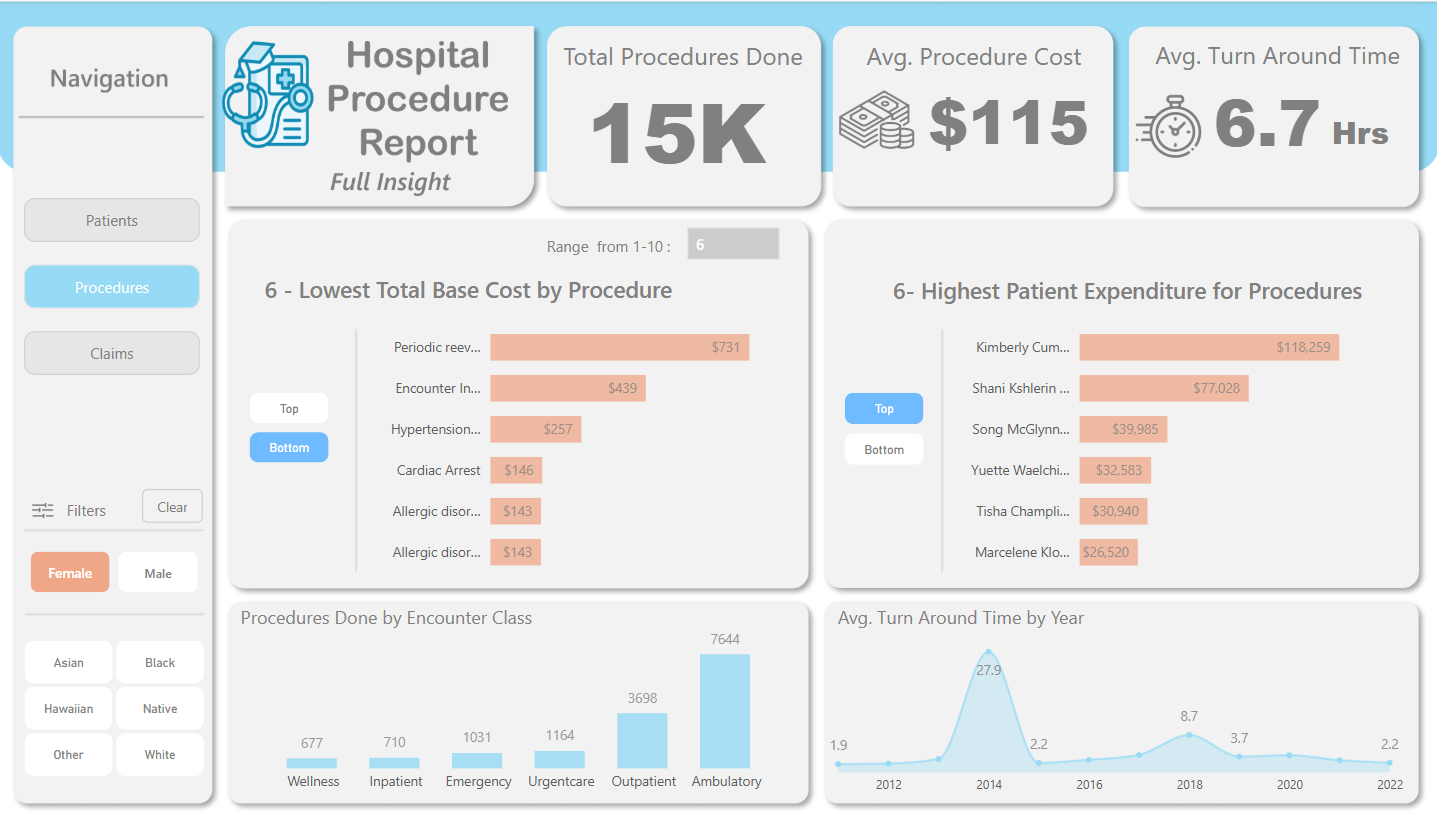

The page's visual inventory and layout, read from the dashboard file:
{"tool":"powerbi","page":{"name":"Procedures","canvas":[1280,720],"ordinal":1},"visuals":[{"type":"card","fields":{"Values":["Measures (2).Procedure Count"]},"box":[505.5,36.4,194.5,149.1],"z":0},{"type":"card","fields":{"Values":["Measures (2).Avg Cost"]},"box":[791,35,212,139],"z":1000},{"type":"columnChart","title":"Procedures by Encounter Class","fields":{"Category":["Encounters.ENCOUNTERCLASS"],"Y":["Measures (2).Procedure Count"]},"box":[223,544,482,166],"z":2000},{"type":"lineChart","fields":{"Category":["Calendar.Year"],"Y":["Measures (2).Avg Turn Around Time"]},"box":[729.1,555.5,523.6,158.2],"z":3000},{"type":"slicer","fields":{"Values":["Top/Bottom.Top/Bottom"]},"box":[603,191,102,73],"z":4000},{"type":"barChart","fields":{"Y":["Measures (2).Bottom Procedure"],"Category":["Encounters.DESCRIPTION"]},"box":[331.6,267.8,373.3,253.6],"z":5000},{"type":"barChart","fields":{"Y":["Measures (2).Top Patient"],"Category":["Patient.FULL NAME"]},"box":[845.5,268.2,407.3,253.6],"z":6000},{"type":"shape","box":[24,463,159,13],"z":7000},{"type":"textbox","box":[482,204,129,27],"z":8000},{"type":"advancedSlicerVisual","fields":{"Values":["Patient.GENDER"]},"box":[24.4,483.3,158.9,46.7],"z":9000},{"type":"advancedSlicerVisual","fields":{"Values":["Patient.RACE"]},"box":[19.1,562.4,170.3,132],"z":10000},{"type":"shape","box":[24.4,537.8,158.9,13.3],"z":11000},{"type":"image","box":[24,436,32,31],"z":12000},{"type":"textbox","box":[56.7,437.8,63.3,28.9],"z":13000},{"type":"textbox","box":[490,28.2,241.8,51.8],"z":14000},{"type":"textbox","box":[739.1,28.2,253.6,51.8],"z":15000},{"type":"textbox","box":[740,530,333.3,50],"z":16000},{"type":"textbox","box":[206.7,530,333.3,50],"z":17000},{"type":"advancedSlicerVisual","fields":{"Values":["Procedures Top/ Bottom.Procedures Top/ Bottom"]},"box":[219,342,80,73],"z":18000},{"type":"shape","box":[310.9,290.9,14.5,215.5],"z":19000},{"type":"advancedSlicerVisual","fields":{"Values":["Patient 2.Patient"]},"box":[747,342,80,75],"z":20000},{"type":"shape","box":[830.9,290.9,14.5,215.5],"z":21000},{"type":"card","fields":{"Values":["Measures (2).Avg Turn Around Time"]},"box":[1051.7,54.9,150.4,98.8],"z":22000},{"type":"textbox","box":[1008.9,27.2,253,77.6],"z":23000},{"type":"textbox","box":[1156,93.3,105.4,60.4],"z":24000},{"type":"image","box":[739.9,65.9,80.1,79],"z":25000},{"type":"image","box":[1003.4,76.8,70.3,68.1],"z":26000},{"type":"card","fields":{"Values":["Measures (2).Title: Procedure"]},"box":[189,221,458,74],"z":27000},{"type":"card","fields":{"Values":["Measures (2).Title: Patient"]},"box":[764.5,221.8,476.4,72.7],"z":28000},{"type":"actionButton","title":"Clear Filter","box":[129,433,54,30],"z":29000},{"type":"pageNavigator","box":[23.6,174.5,156.4,157.3],"z":30000}]}

Visuals, with their boxes in screenshot pixels (x1, y1, x2, y2), scaled from the page's 1280x720 canvas onto the 1437x813 screenshot:
card - Measures (2).Procedure Count: rect(568, 41, 786, 209)
card - Measures (2).Avg Cost: rect(888, 40, 1126, 196)
"Procedures by Encounter Class" columnChart: rect(250, 614, 791, 802)
lineChart - Calendar.Year x Measures (2).Avg Turn Around Time: rect(819, 627, 1406, 806)
slicer - Top/Bottom.Top/Bottom: rect(677, 216, 791, 298)
barChart - Measures (2).Bottom Procedure x Encounters.DESCRIPTION: rect(372, 302, 791, 589)
barChart - Measures (2).Top Patient x Patient.FULL NAME: rect(949, 303, 1406, 589)
shape: rect(27, 523, 205, 537)
textbox: rect(541, 230, 686, 261)
advancedSlicerVisual - Patient.GENDER: rect(27, 546, 206, 598)
advancedSlicerVisual - Patient.RACE: rect(21, 635, 213, 784)
shape: rect(27, 607, 206, 622)
image: rect(27, 492, 63, 527)
textbox: rect(64, 494, 135, 527)
textbox: rect(550, 32, 822, 90)
textbox: rect(830, 32, 1114, 90)
textbox: rect(831, 598, 1205, 655)
textbox: rect(232, 598, 606, 655)
advancedSlicerVisual - Procedures Top/ Bottom.Procedures Top/ Bottom: rect(246, 386, 336, 469)
shape: rect(349, 328, 365, 572)
advancedSlicerVisual - Patient 2.Patient: rect(839, 386, 928, 471)
shape: rect(933, 328, 949, 572)
card - Measures (2).Avg Turn Around Time: rect(1181, 62, 1350, 174)
textbox: rect(1133, 31, 1417, 118)
textbox: rect(1298, 105, 1416, 174)
image: rect(831, 74, 921, 164)
image: rect(1126, 87, 1205, 164)
card - Measures (2).Title: Procedure: rect(212, 250, 726, 333)
card - Measures (2).Title: Patient: rect(858, 250, 1393, 333)
"Clear Filter" actionButton: rect(145, 489, 205, 523)
pageNavigator: rect(26, 197, 202, 375)
